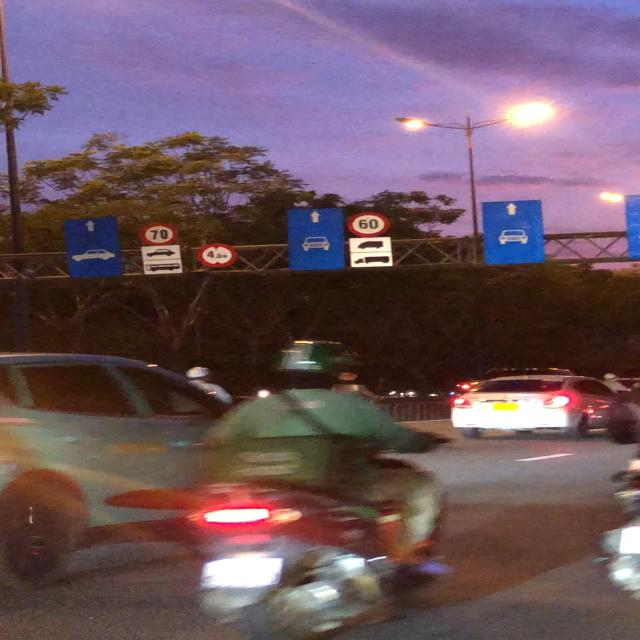Bien bao han che chieu cao: (196, 242, 244, 273)
Bien bao toc do toi da cho phep: (348, 210, 396, 237), (139, 220, 180, 248)
